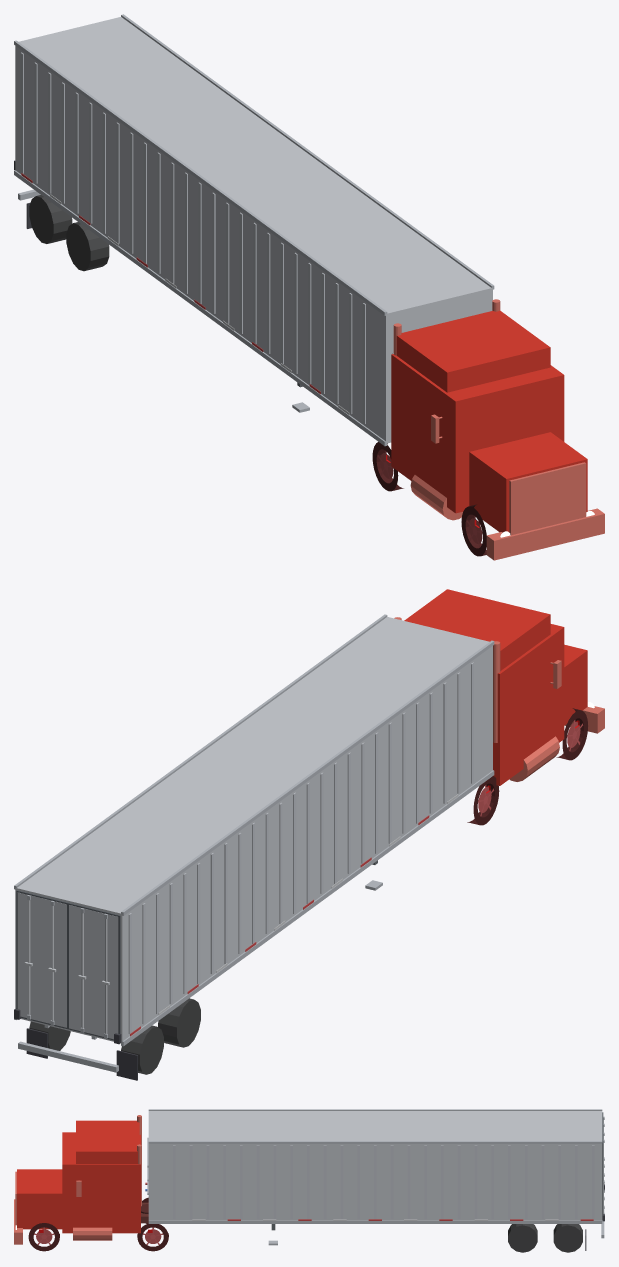
File: transcontinental_semi_lod0.glb
3 views of the same model, one above another, from view 1: azimuth 30°, elevation 25°; view 2: azimuth 150°, elevation 25°; view 3: azimuth 270°, elevation 25° (orthographic). The views are drawn at different scales.
Parts seen in each view (by area): view 1: Articulated_Trailer, Chassis, Wheel_FL, Wheel_RL; view 2: Articulated_Trailer, Chassis, Wheel_FL, Wheel_RL; view 3: Articulated_Trailer, Chassis, Wheel_FR, Wheel_RR.
Part boxes in pixels (x1=…): Articulated_Trailer: x1=14, y1=14, x2=494, y2=446; Chassis: x1=391, y1=299, x2=604, y2=560; Wheel_FL: x1=461, y1=504, x2=486, y2=556; Wheel_RL: x1=372, y1=442, x2=403, y2=491; Articulated_Trailer: x1=14, y1=614, x2=494, y2=1080; Chassis: x1=394, y1=589, x2=604, y2=785; Wheel_FL: x1=556, y1=708, x2=587, y2=760; Wheel_RL: x1=467, y1=776, x2=499, y2=825; Articulated_Trailer: x1=145, y1=1109, x2=604, y2=1252; Chassis: x1=14, y1=1115, x2=148, y2=1244; Wheel_FR: x1=28, y1=1223, x2=59, y2=1251; Wheel_RR: x1=137, y1=1223, x2=168, y2=1251.
Size of the model in its own units: 2.95 by 4.04 by 19.54.
